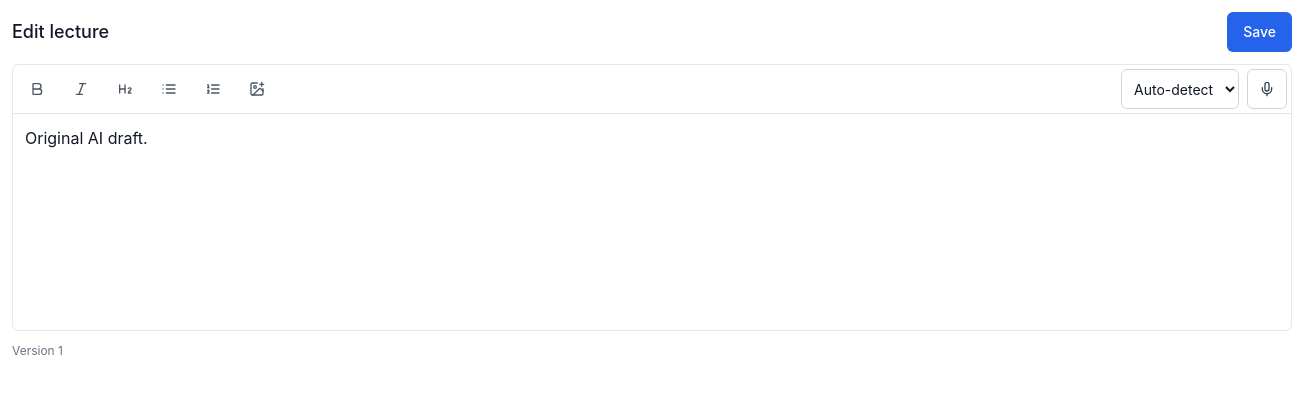
Test: LectureEditorPanel — voice dictation (T-131) › acceptance #1/#3 — dictating with no selection inserts the transcript at the cursor
The width and height of the screenshot is (1304, 404).
Expected: the text box "Original AI draft." is shown, [25,128,148,148]
Click the button named "Dictate". click: {"x": 1267, "y": 89}
box: [1247,69,1287,109]
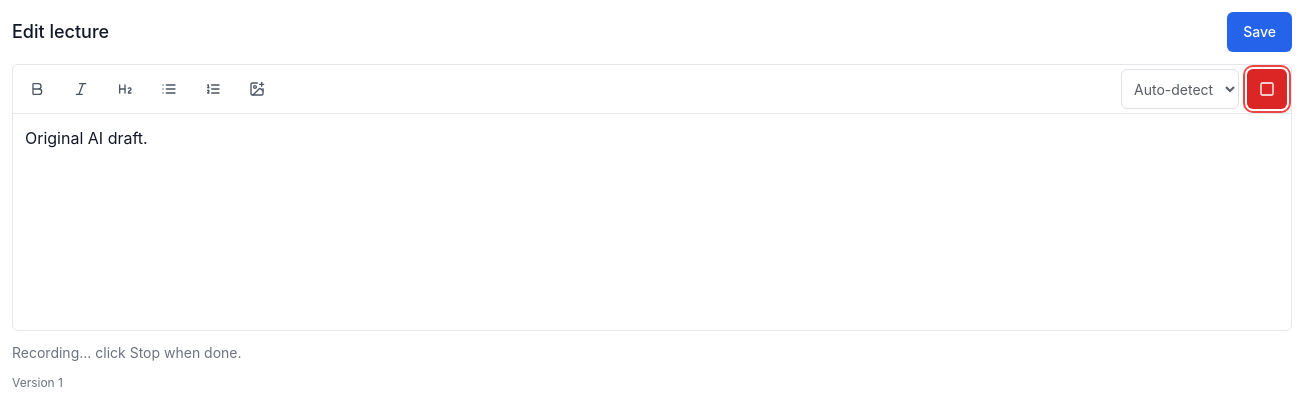
Expected: the text "Recording... click Stop when done." is shown, [12,344,242,361]
Click the button named "Stop dictating". click: {"x": 1267, "y": 89}
box: [1247,69,1287,109]
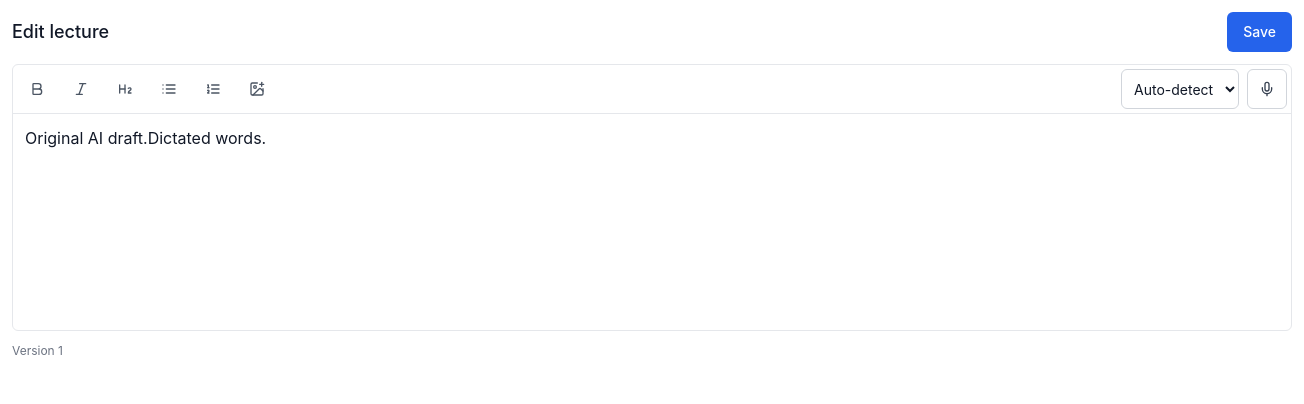
Expected: the text box "Original AI draft.Dictated words." is shown, [25,128,266,148]
